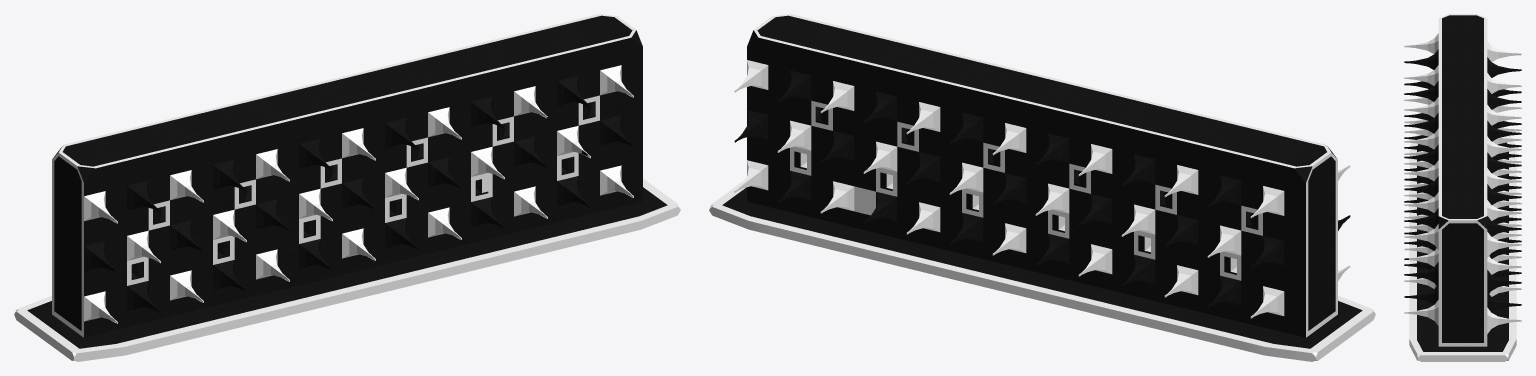
Rendered from Road Block Spike.FBX.
3 views of the same model, side by side, from view 1: azimuth 30°, elevation 25°; view 2: azimuth 150°, elevation 25°; view 3: azimuth 270°, elevation 25° (orthographic). The views are drawn at different scales.
Visible parts, largest first — view 1: Road Block Spike; view 2: Road Block Spike; view 3: Road Block Spike.
Part boxes in pixels (x1,y1,x2,y2): Road Block Spike: (14, 14, 680, 361); Road Block Spike: (709, 14, 1375, 361); Road Block Spike: (1404, 14, 1521, 361).
Bounding box in the file's own units: 214 × 59.06 × 47.24.
